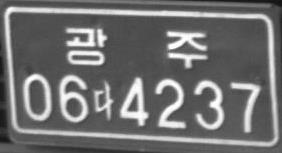0: (21, 73, 53, 122)
2: (154, 77, 187, 129)
3: (192, 78, 225, 131)
4: (118, 76, 148, 126)
6: (58, 74, 89, 123)
7: (228, 80, 262, 134)
광주_D: (64, 27, 208, 69)
다: (92, 79, 114, 121)
